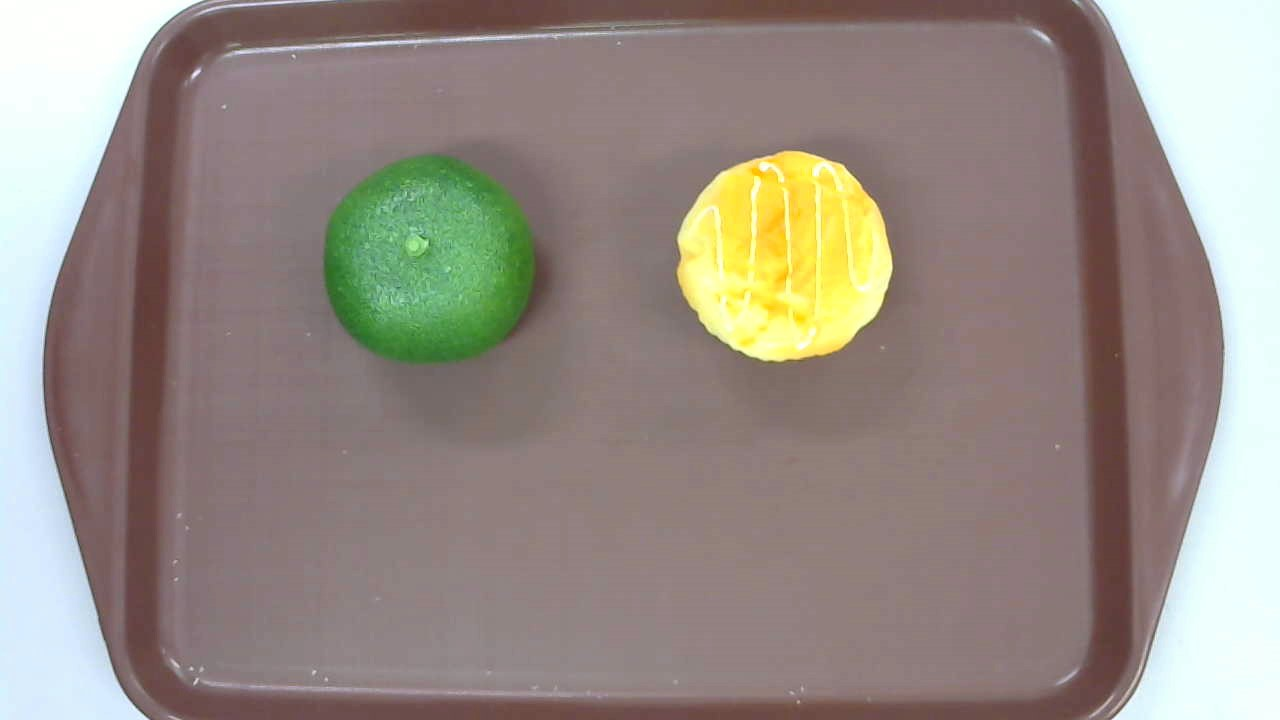cupcake: (675, 150, 892, 365)
green orange: (322, 153, 535, 364)
